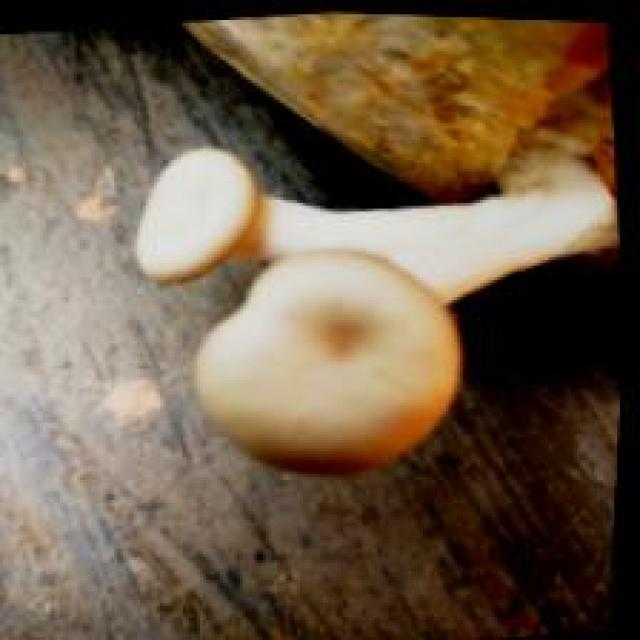field-mushroom: (191, 246, 463, 471)
